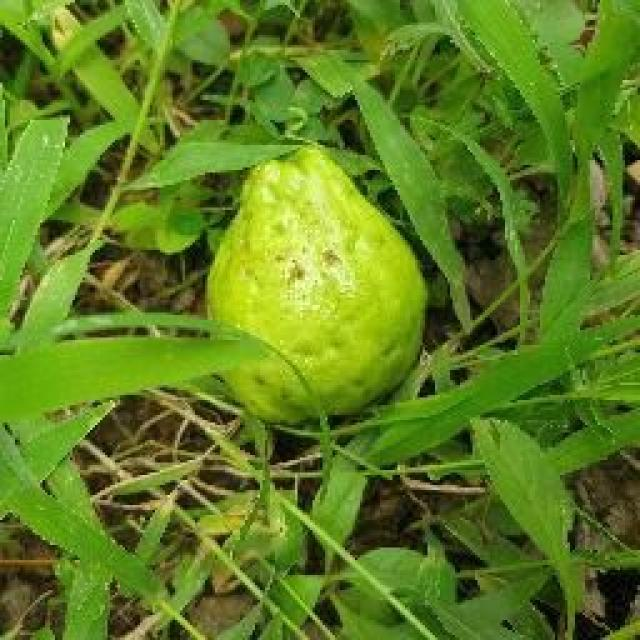Good_Guava: (205, 148, 432, 432)
